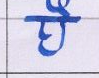ai_matra: (48, 0, 73, 17)
